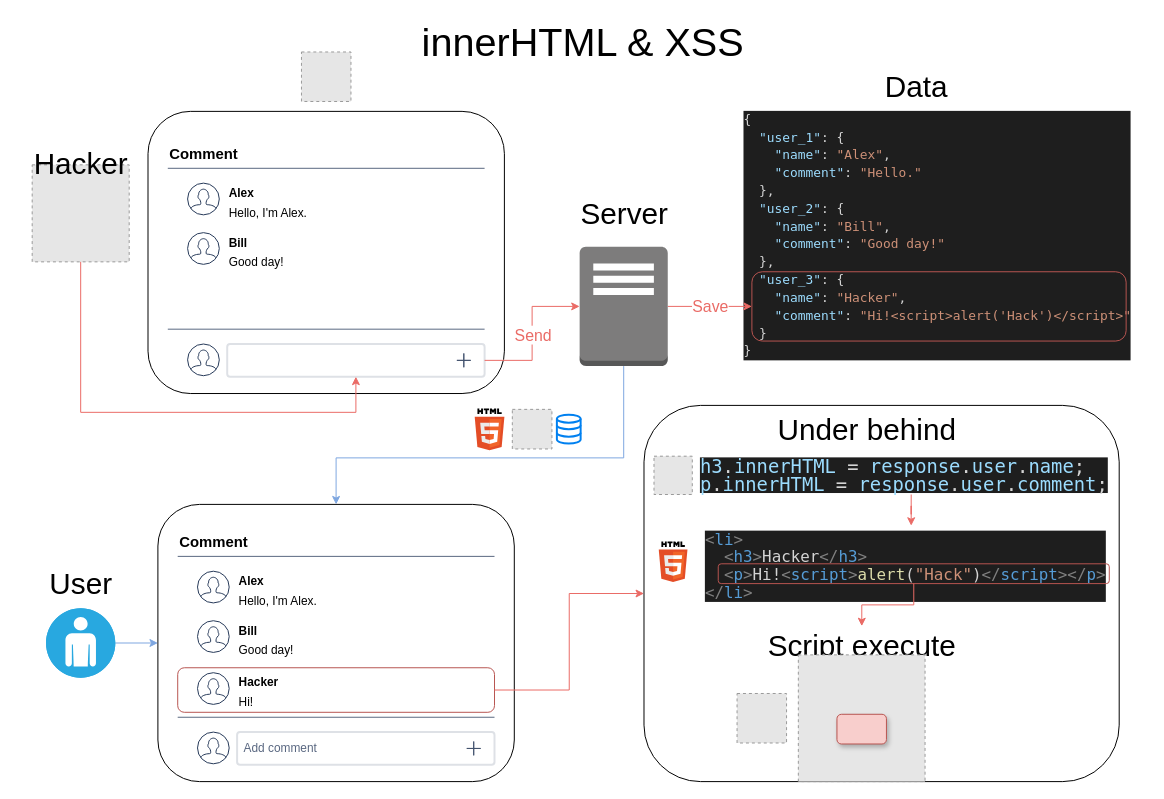
Image size: 1164x799. Some labels were removed from this diagram. Grey dashed boxes stand in for pictures. Each missing label, with the centre of its shape:
"Hack" goes at (862,730).
"Hi!<script>alert('Hack')</script>" goes at (355,360).
